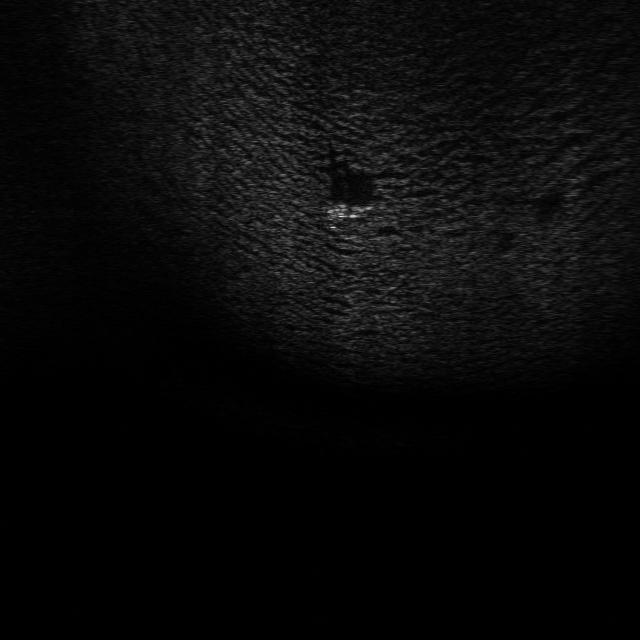plane: (326, 202, 374, 220)
